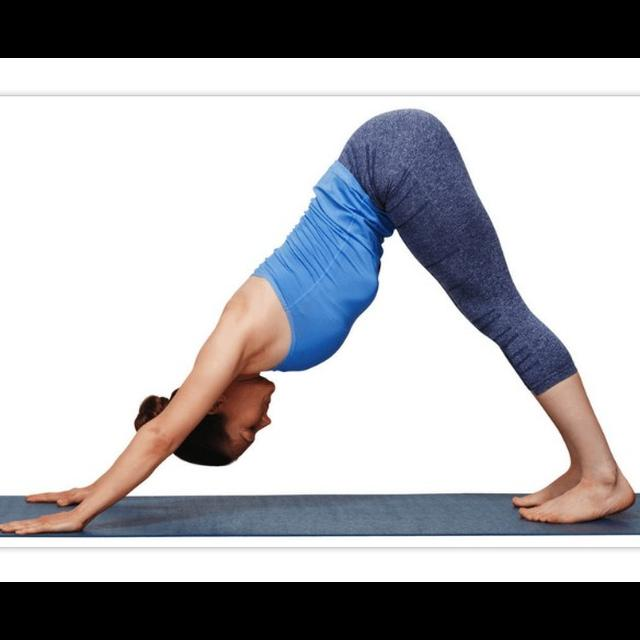Downward-Facing_Dog: (1, 103, 634, 536)
